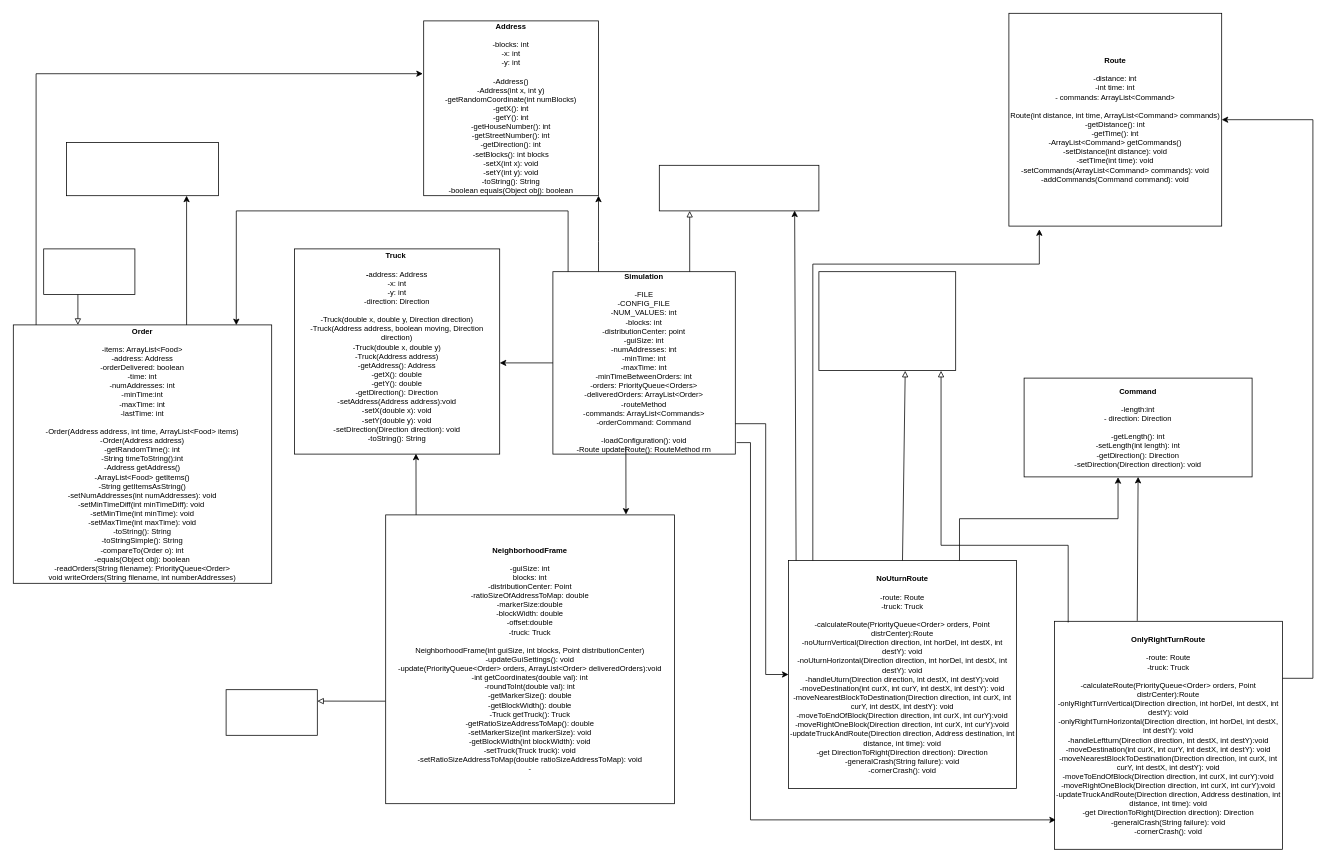
The diagram is 1332 pixels wide and 863 high, and some of its shapes have lost their labels. The centre of each missing label's shape, as x and y in pixels:
<<Enumeration>> Direction NORTH, EAST, SOUTH, WEST, NONE: the point at 887,320
<<interface>> Comparable: the point at 89,271
<<interface>> RouteMethod: the point at 739,188
Food -getName(): String -setName(String name):void -toString():String: the point at 142,169
Jframe: the point at 271,712
